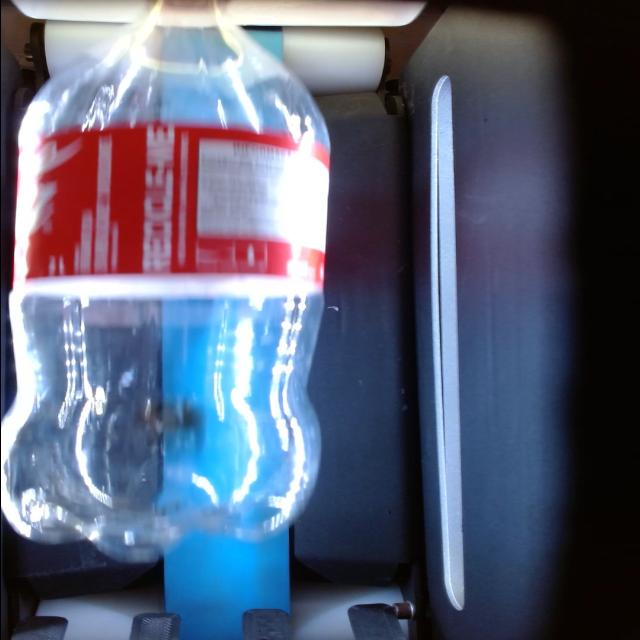bottom: (0, 452, 335, 561)
